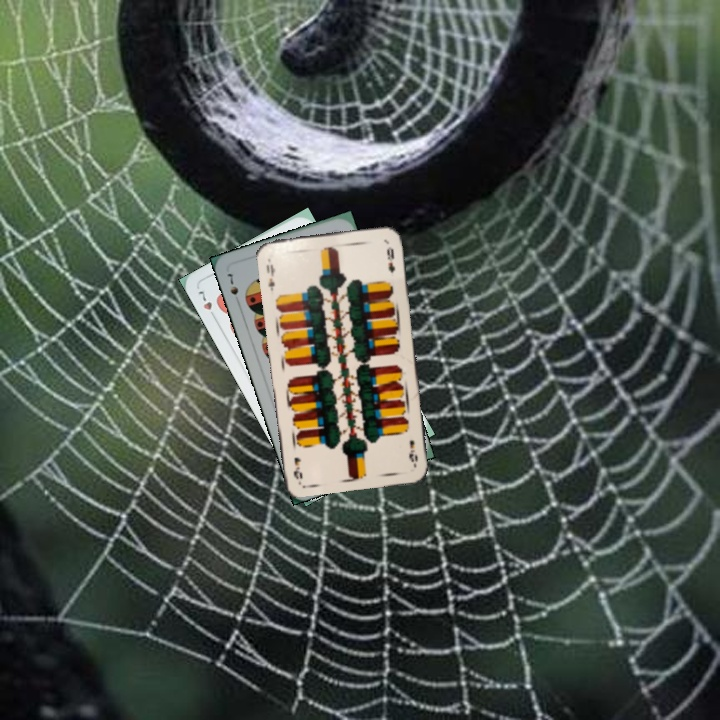E9: (262, 260, 278, 293), (405, 436, 420, 467)
H7: (194, 285, 219, 322)
S7: (223, 269, 241, 298)
